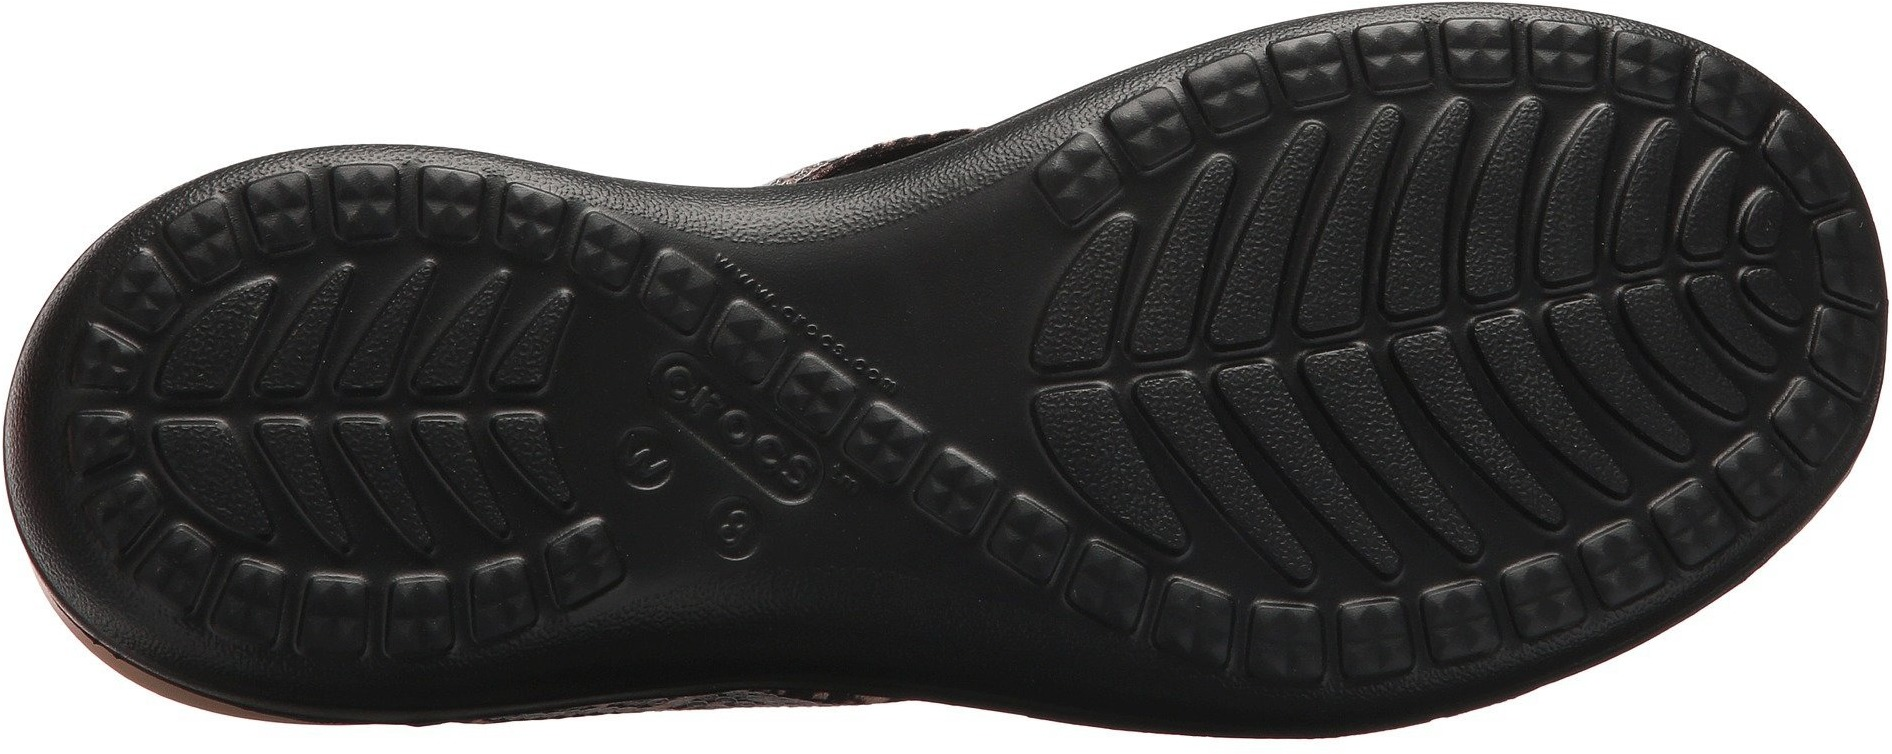other: (833, 239, 1033, 405), (812, 560, 985, 705), (643, 566, 796, 684)
quad: (1548, 451, 1767, 660), (863, 384, 1055, 567), (1176, 24, 1361, 195)
text: (648, 392, 804, 559)
triangle: (246, 267, 520, 584), (1204, 335, 1500, 612), (290, 279, 538, 514), (1417, 87, 1652, 325)
